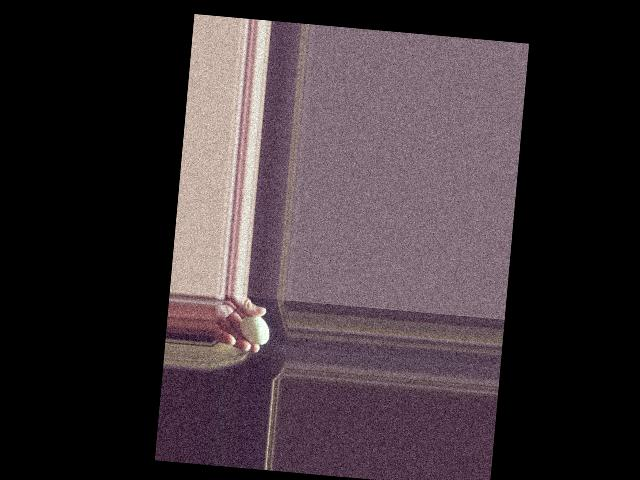egg: (239, 314, 270, 344)
